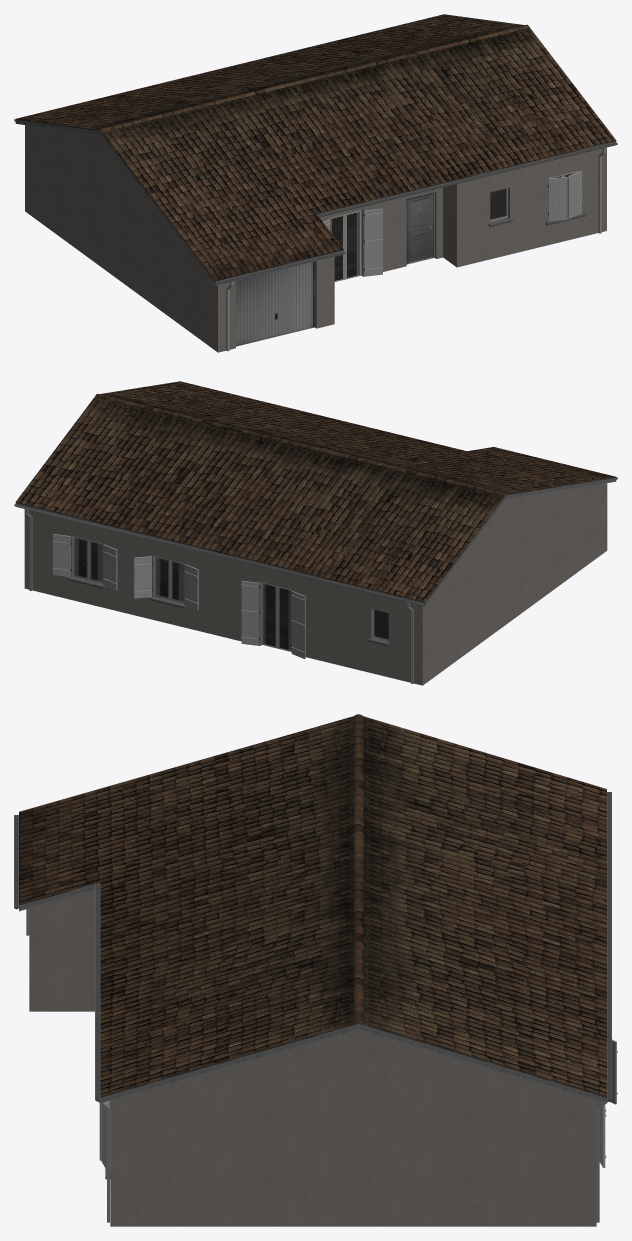
The picture shows the model from 3 angles, top to bottom: view 1: azimuth 30°, elevation 25°; view 2: azimuth 150°, elevation 25°; view 3: azimuth 270°, elevation 25°; orthographic projection. The views are drawn at different scales.
Parts seen in each view (by area): view 1: 11901721.049_Main_0; view 2: 11901721.049_Main_0; view 3: 11901721.049_Main_0.
Part boxes in pixels (left/top/right/bottom): 11901721.049_Main_0: left=14, top=14, right=617, bottom=352; 11901721.049_Main_0: left=14, top=381, right=617, bottom=685; 11901721.049_Main_0: left=14, top=714, right=617, bottom=1226.
Bounding box in the file's own units: 12.6 × 4.01 × 10.44.
Materials: 1 (1 with a texture image).
